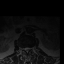CCS_normal: (25, 46, 28, 54)
LFS_stenosis: (30, 46, 32, 50)
LLS_normal: (28, 45, 30, 51)
RFS_normal: (21, 46, 23, 51)
RLS_normal: (23, 46, 25, 51)
